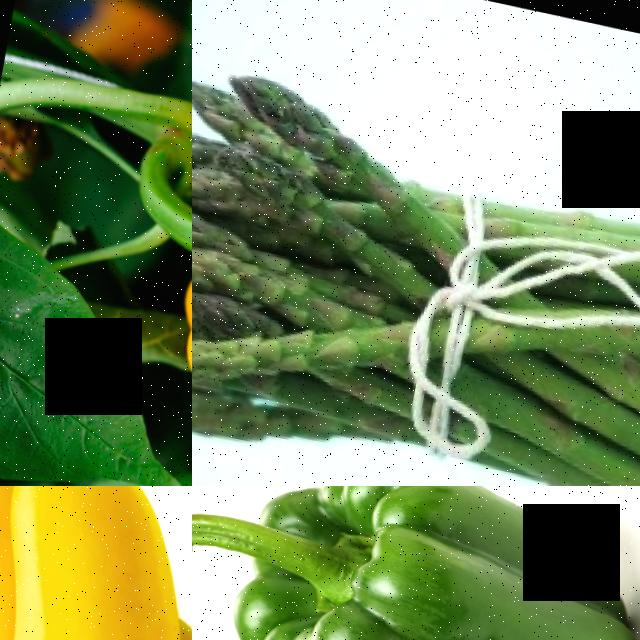asparagus: (192, 279, 470, 431), (220, 47, 419, 179), (192, 367, 341, 466), (192, 239, 330, 319), (192, 155, 325, 236)
banana: (0, 486, 192, 640)
bell pepper: (192, 486, 640, 640)
